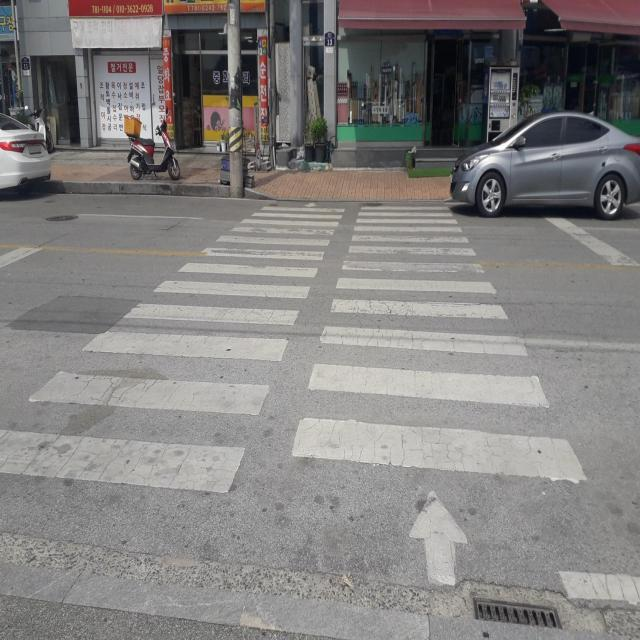횡단보도: (0, 197, 590, 592)
